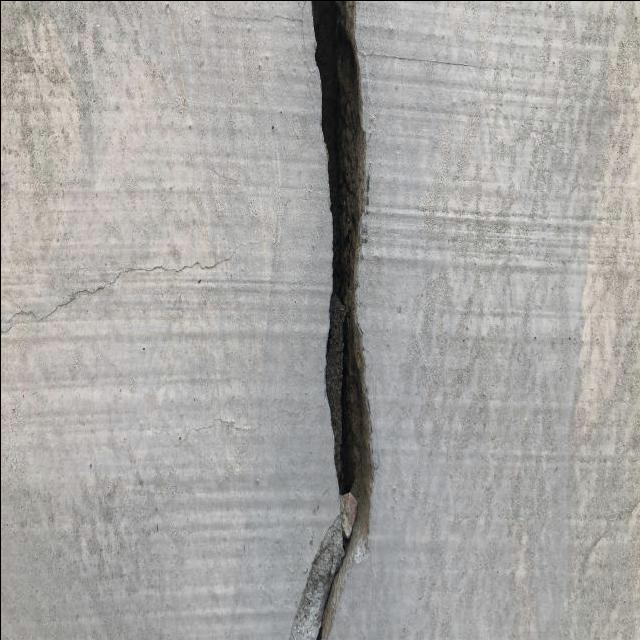SurfaceCrack: (252, 0, 423, 640), (0, 232, 265, 378)
